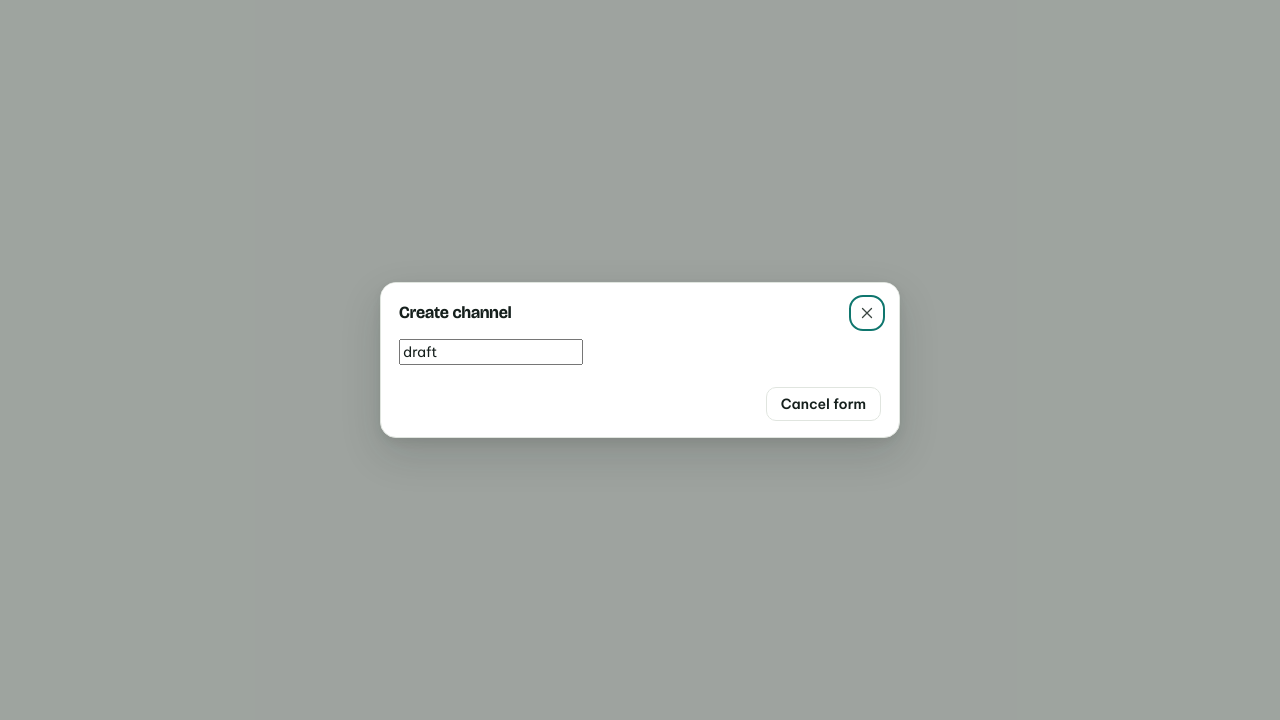
Test: a form with content › Esc and an outside press on the question keep the form and call nothing
Click the button named "Close" at x=867, y=313, box 853,299 -> 881,327
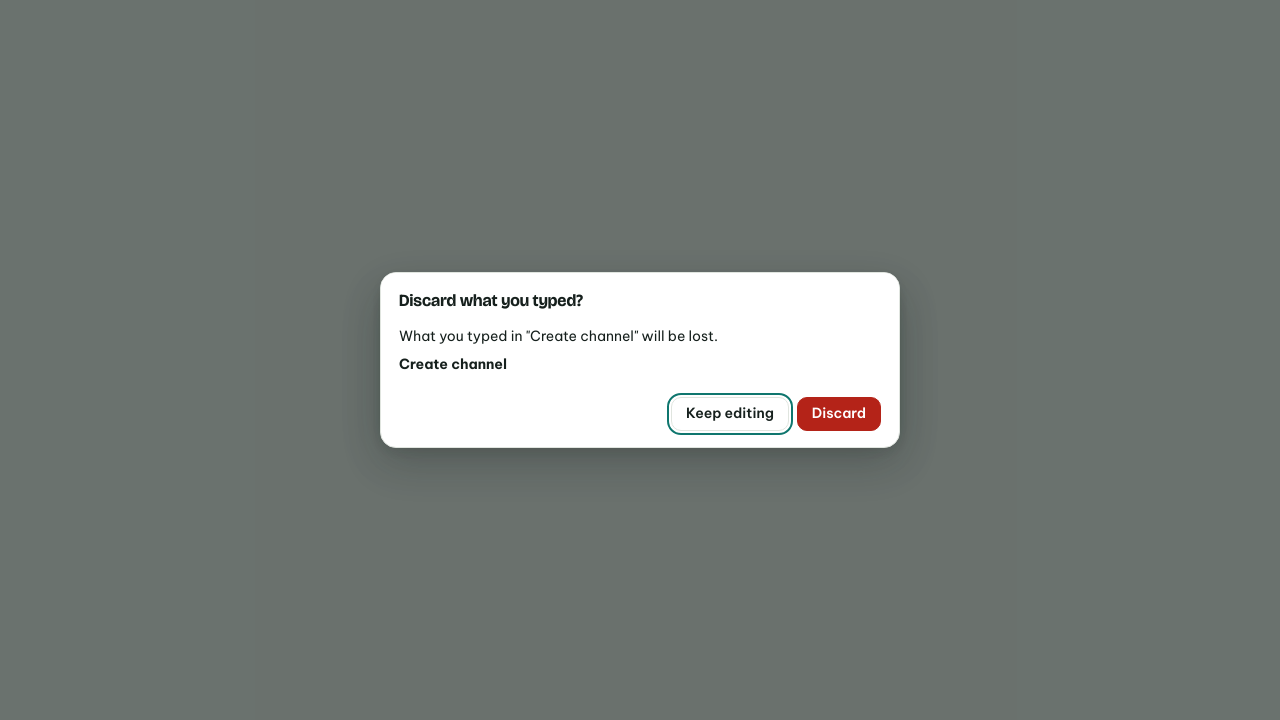
Press Escape
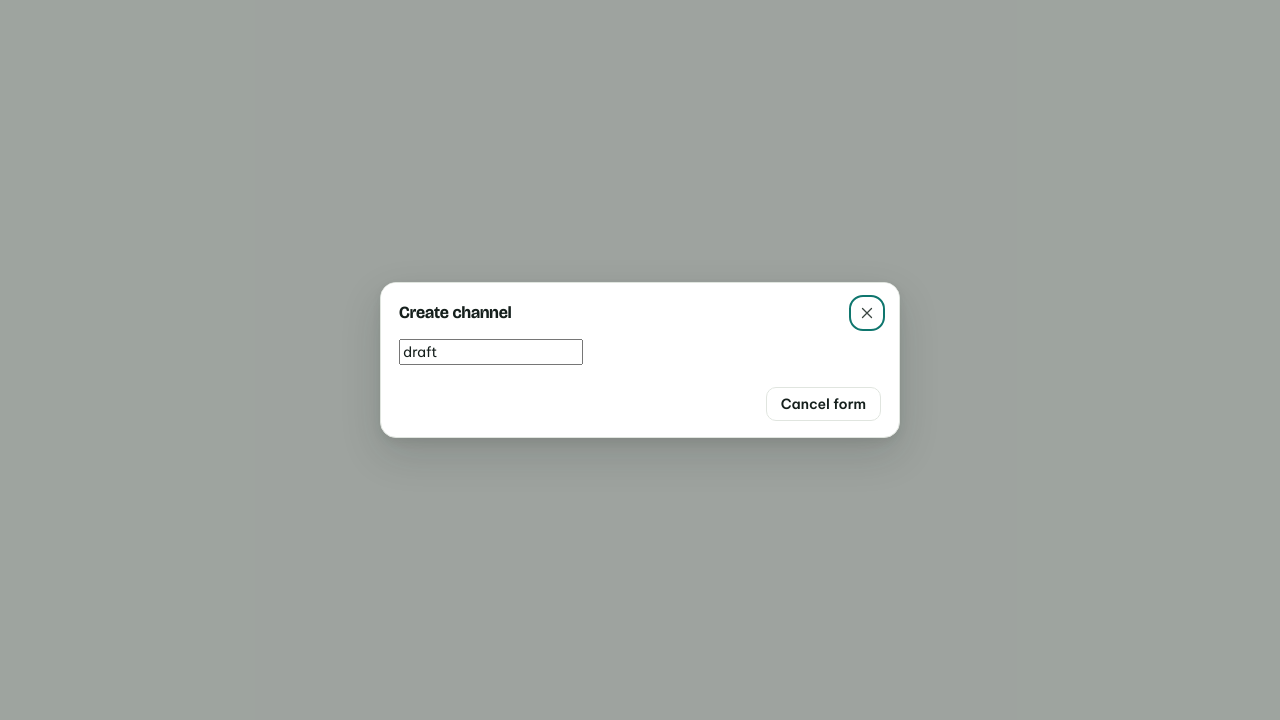
Check: the dialog "Create channel" is shown, box 380,282 -> 900,438
Check: the heading "Discard what you typed?" is gone
Click the button named "Close" at x=867, y=313, box 853,299 -> 881,327
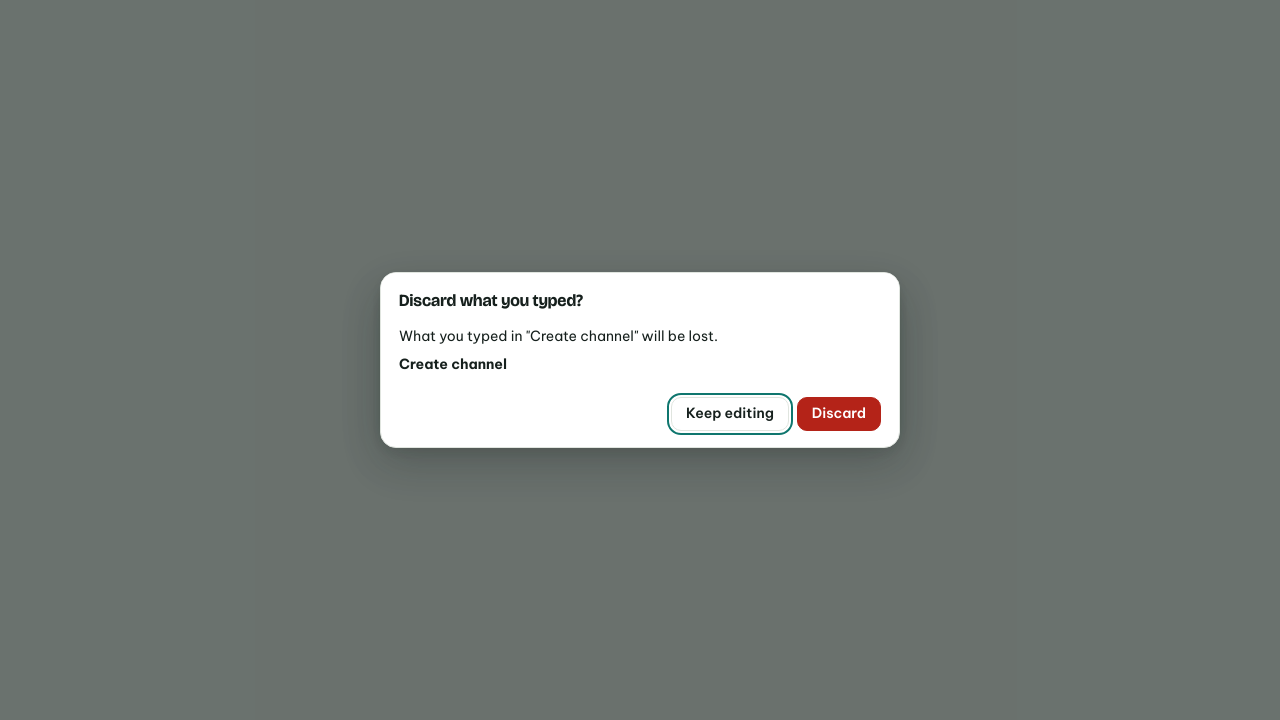
Click the element that starts with "Discard what you typed?" at x=77, y=360, box 0,0 -> 1279,719
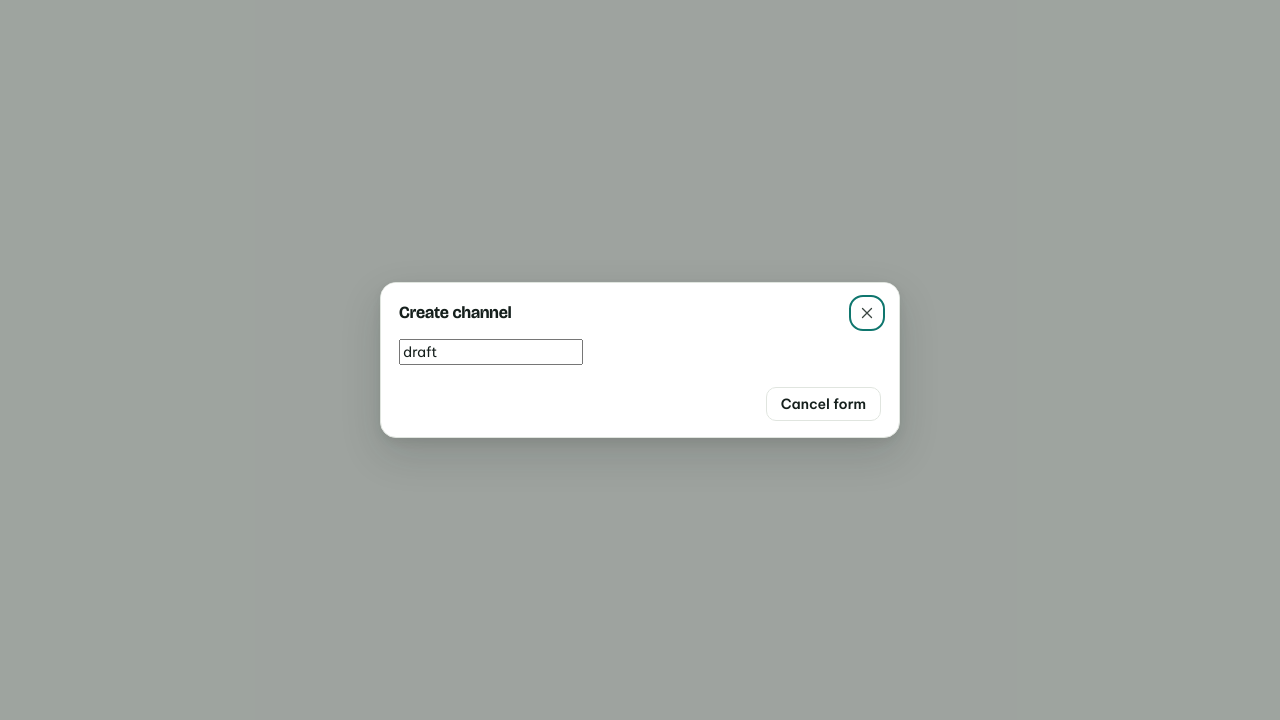
Check: the heading "Discard what you typed?" is gone
